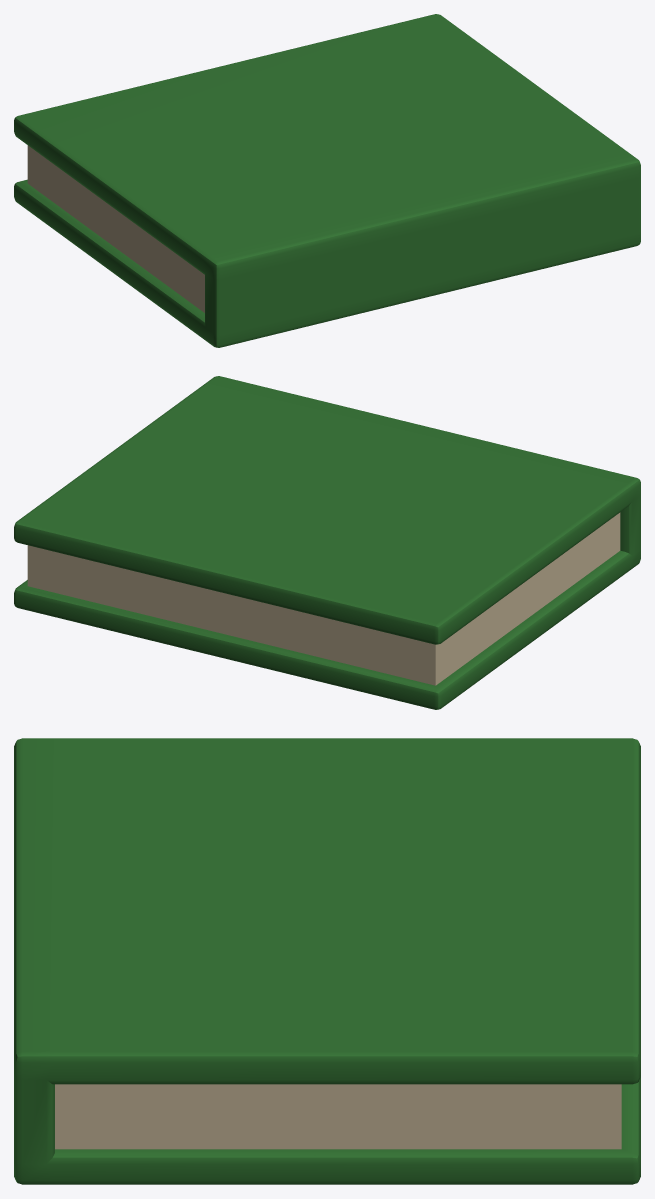
The model's file is Book_Green.fbx.
3 views of the same model, one above another, from view 1: azimuth 30°, elevation 25°; view 2: azimuth 150°, elevation 25°; view 3: azimuth 270°, elevation 25° (orthographic). The views are drawn at different scales.
Visible parts, largest first — view 1: pCube1; view 2: pCube1; view 3: pCube1.
Boxes of the visible parts, x1,y1,x2,y2 form: pCube1: (14,14,640,347); pCube1: (14,376,640,709); pCube1: (14,738,640,1184).
Size of the model in its own units: 10.12 by 1.96 by 8.38.
